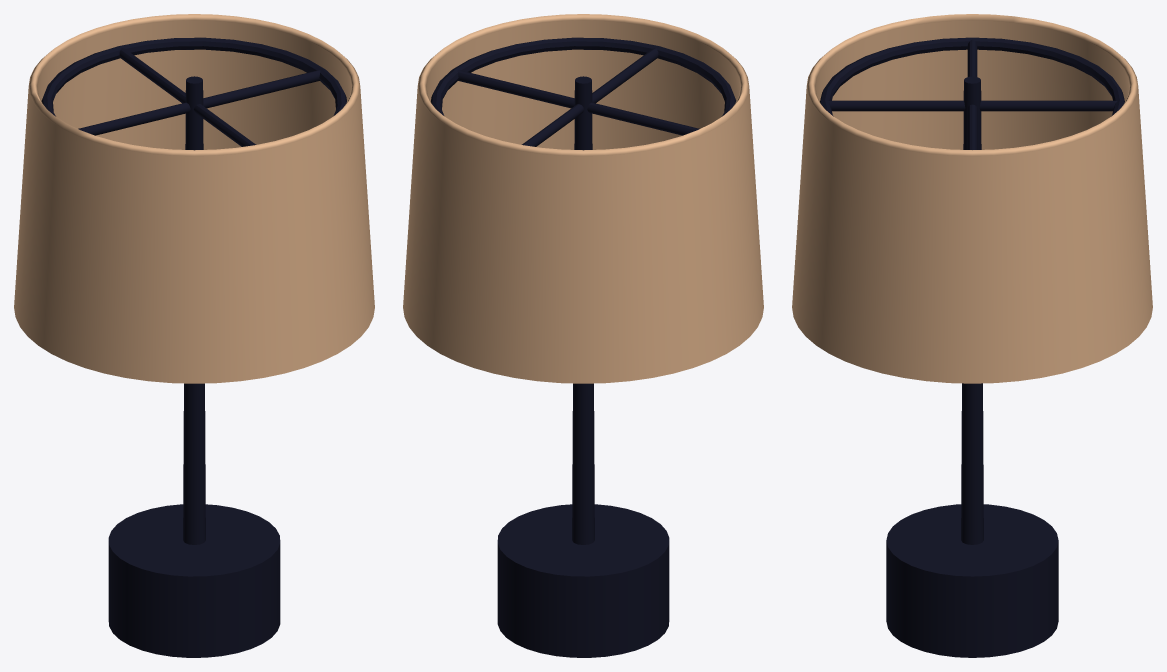
The model's file is TabletopLamp.fbx.
3 renders of one model, left to right at view 1: azimuth 30°, elevation 25°; view 2: azimuth 150°, elevation 25°; view 3: azimuth 270°, elevation 25°, orthographic.
Parts seen in each view (by area): view 1: Cylinder.001; view 2: Cylinder.001; view 3: Cylinder.001.
Boxes of the visible parts, left/top/right/bottom form: Cylinder.001: left=14, top=14, right=374, bottom=657; Cylinder.001: left=403, top=14, right=763, bottom=657; Cylinder.001: left=792, top=14, right=1152, bottom=657.
Bounding box in the file's own units: 1.7 × 2.82 × 1.7.
